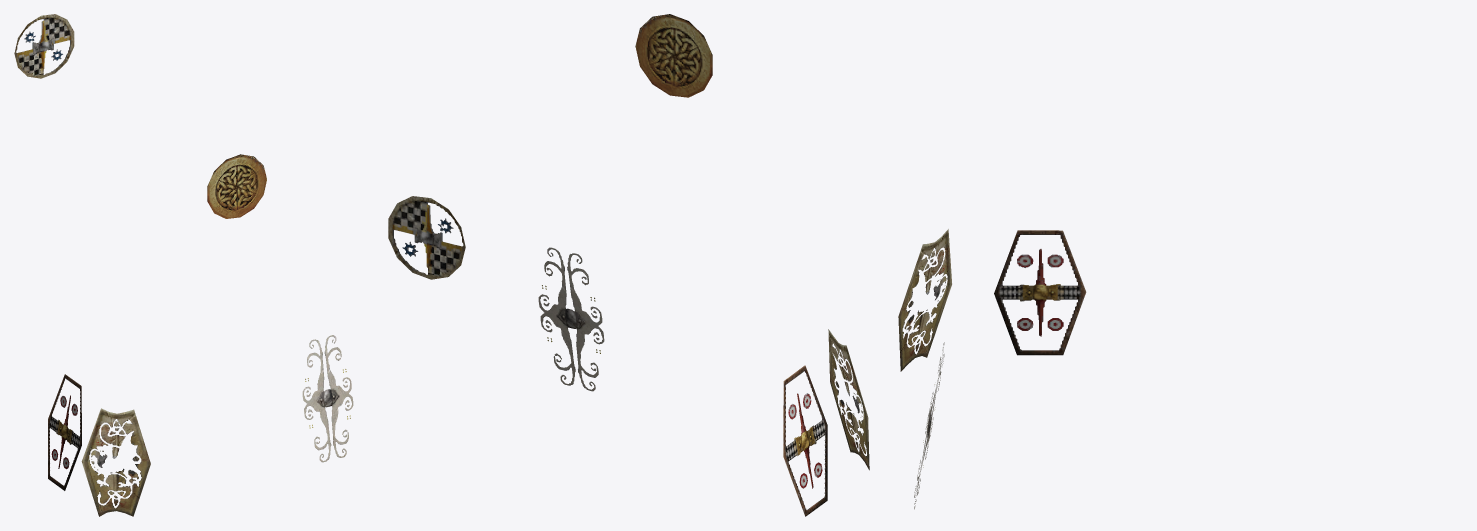
The model's file is celt_kennel_props_new.dae.
3 views of the same model, side by side, from view 1: azimuth 30°, elevation 25°; view 2: azimuth 150°, elevation 25°; view 3: azimuth 270°, elevation 25° (orthographic). The views are drawn at different scales.
Visible parts, largest first — view 1: Object15-Pivot; view 2: Object15-Pivot; view 3: Object15-Pivot.
Part boxes in pixels (x1,y1,x2,y2): Object15-Pivot: (14, 14, 353, 516); Object15-Pivot: (388, 14, 869, 516); Object15-Pivot: (898, 229, 1086, 509).
Size of the model in its own units: 6.56 by 8.92 by 7.58.
